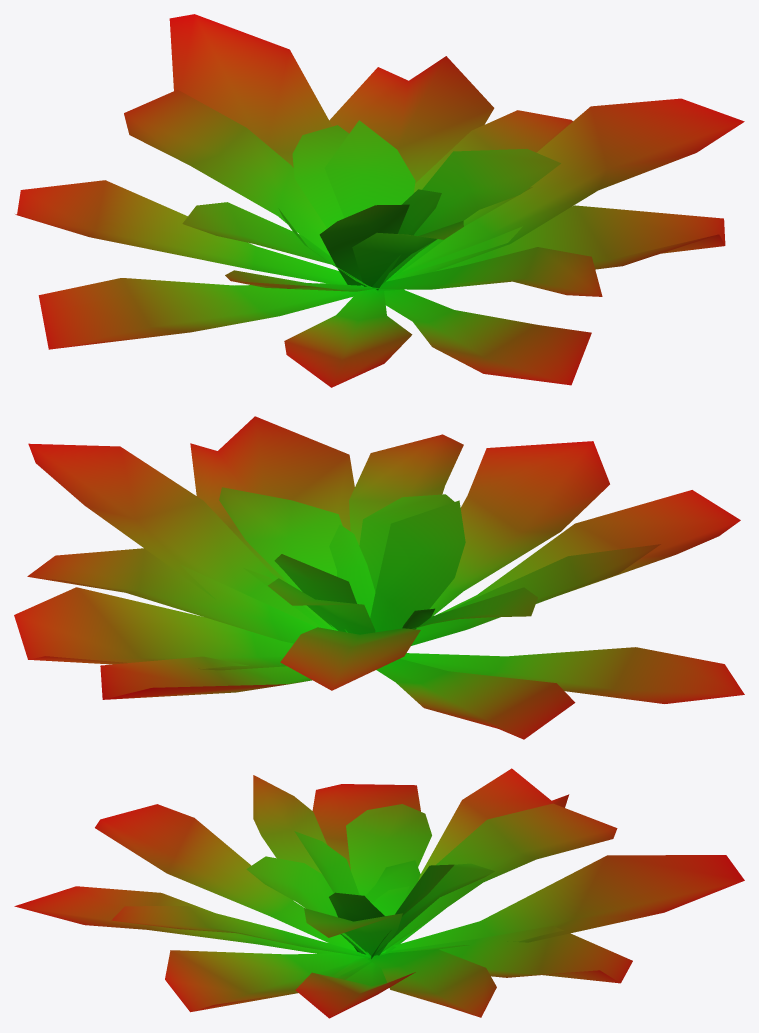
Rendered from Var29_LOD1.fbx.
The picture shows the model from 3 angles, top to bottom: view 1: azimuth 30°, elevation 25°; view 2: azimuth 150°, elevation 25°; view 3: azimuth 270°, elevation 25°; orthographic projection. The views are drawn at different scales.
Parts seen in each view (by area): view 1: _tbzo_Var29_LOD1; view 2: _tbzo_Var29_LOD1; view 3: _tbzo_Var29_LOD1.
Boxes of the visible parts, left/top/right/bottom form: _tbzo_Var29_LOD1: left=15, top=14, right=744, bottom=387; _tbzo_Var29_LOD1: left=14, top=416, right=744, bottom=739; _tbzo_Var29_LOD1: left=14, top=768, right=744, bottom=1018.
Size of the model in its own units: 15.54 by 2.79 by 16.48.
